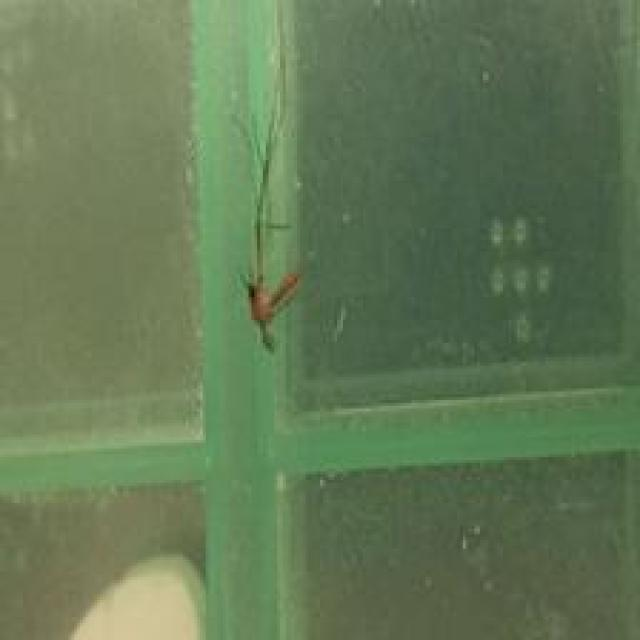Culex: (229, 0, 301, 351)
